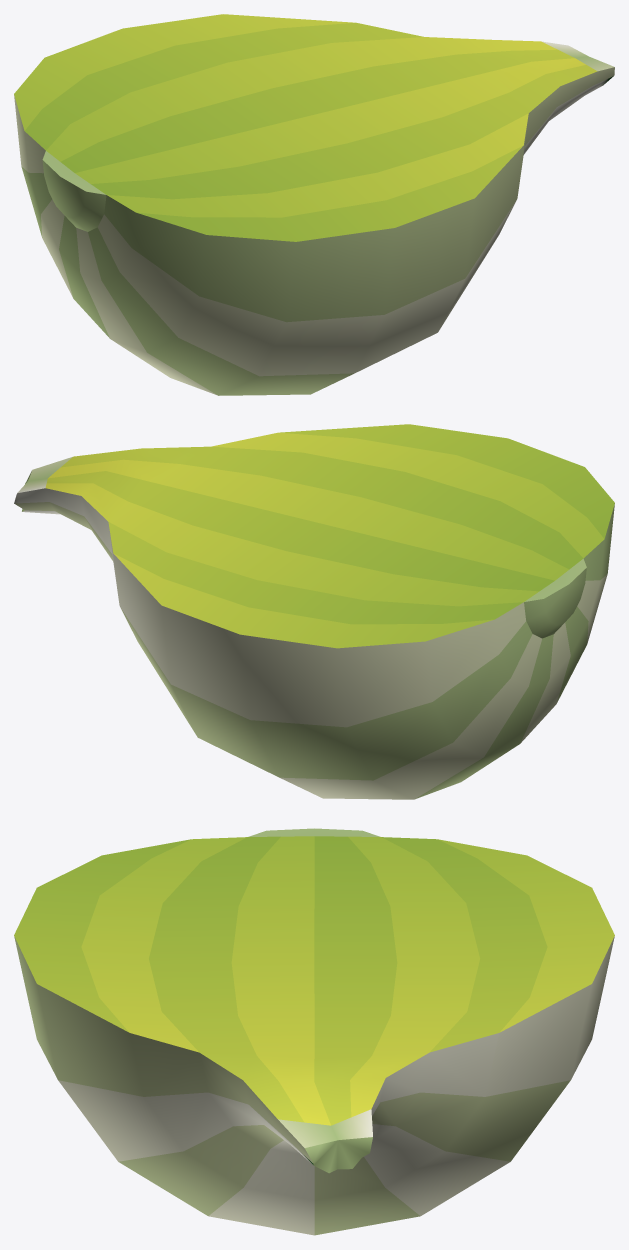
Rendered from Onion_Slice_01.glb.
3 renders of one model, top to bottom at view 1: azimuth 30°, elevation 25°; view 2: azimuth 150°, elevation 25°; view 3: azimuth 270°, elevation 25°, orthographic. The views are drawn at different scales.
Parts seen in each view (by area): view 1: Onion_Slice_01; view 2: Onion_Slice_01; view 3: Onion_Slice_01.
Part boxes in pixels (<box>): Onion_Slice_01: <box>14,14,614,395</box>; Onion_Slice_01: <box>14,424,614,799</box>; Onion_Slice_01: <box>14,828,614,1235</box>.
Bounding box in the file's own units: 0.2679 × 0.1142 × 0.2283.
1 material, 1 textured.
